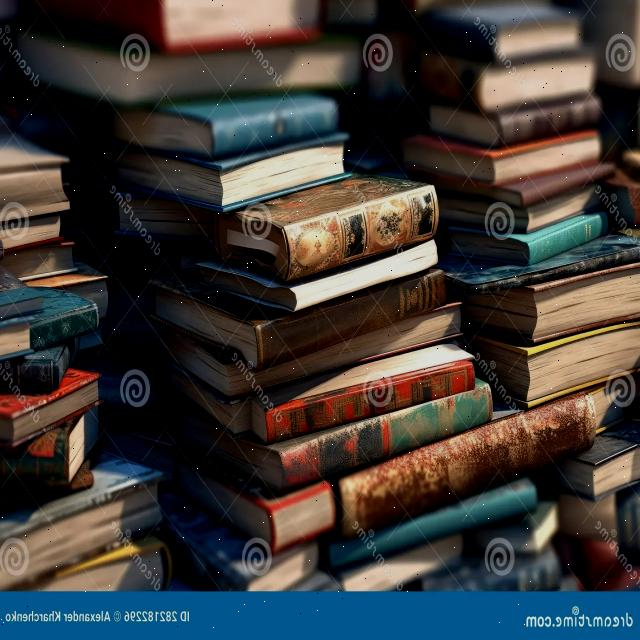book: (342, 396, 594, 533), (276, 389, 491, 486), (329, 489, 537, 573), (252, 278, 447, 365), (268, 363, 477, 435), (287, 190, 436, 281), (212, 104, 338, 157), (528, 211, 607, 259)
